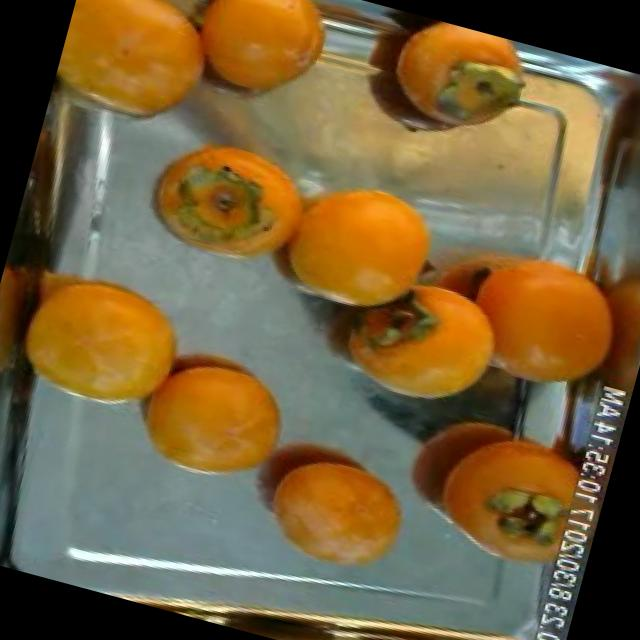Fruit: (368, 384, 610, 592), (236, 148, 464, 346), (415, 229, 640, 419), (218, 406, 441, 596), (0, 245, 206, 438), (307, 257, 517, 433), (121, 116, 326, 292), (112, 328, 306, 503), (43, 0, 237, 156), (148, 0, 356, 126)
